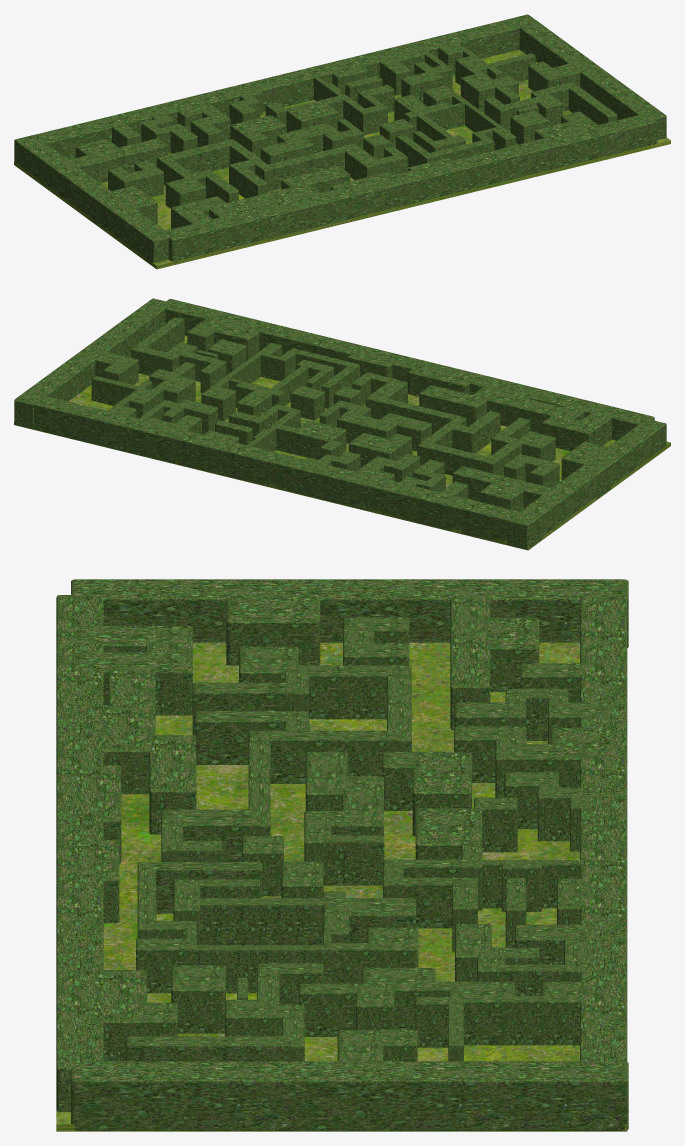
The model's file is Labirinto.fbx.
The picture shows the model from 3 angles, top to bottom: view 1: azimuth 30°, elevation 25°; view 2: azimuth 150°, elevation 25°; view 3: azimuth 270°, elevation 25°; orthographic projection. The views are drawn at different scales.
Visible parts, largest first — view 1: Labirinto, Cube; view 2: Labirinto, Cube; view 3: Labirinto, Cube.
Part boxes in pixels (<box>): Labirinto: <box>14,14,666,264</box>; Cube: <box>14,49,670,269</box>; Labirinto: <box>14,298,666,549</box>; Cube: <box>14,335,670,550</box>; Labirinto: <box>56,579,628,1130</box>; Cube: <box>56,642,627,1131</box>.
Size of the model in its own units: 8092 by 390 by 3898.
